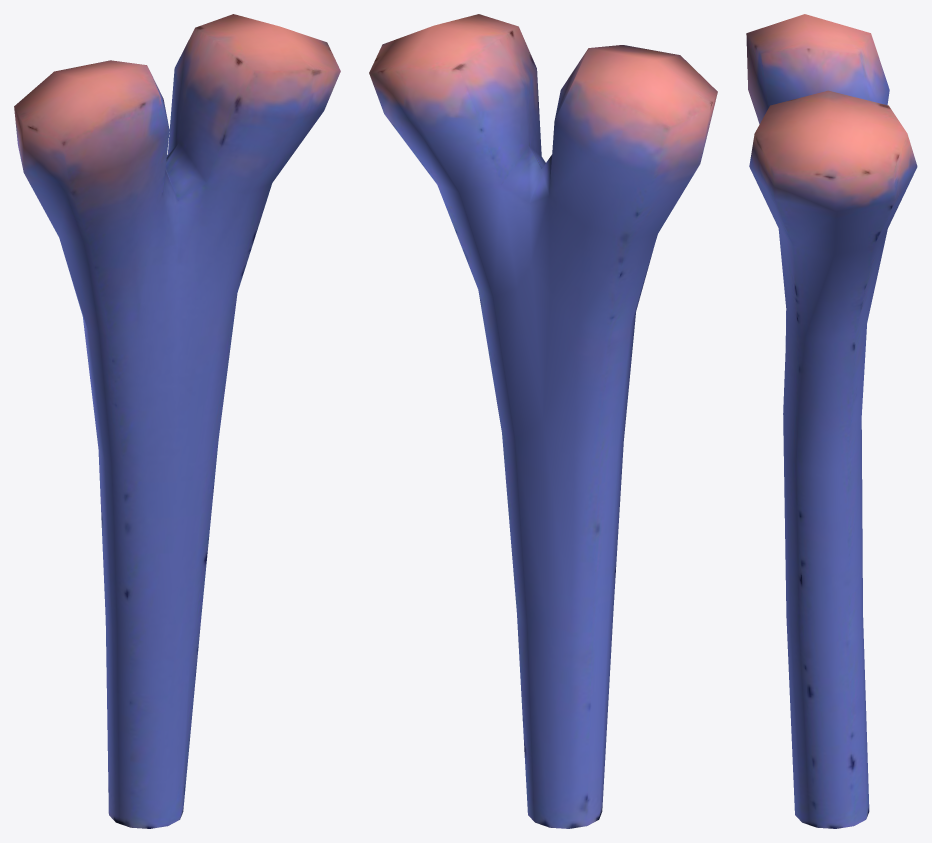
Rendered from 35-Bubble.fbx.
3 renders of one model, left to right at view 1: azimuth 30°, elevation 25°; view 2: azimuth 150°, elevation 25°; view 3: azimuth 270°, elevation 25°, orthographic.
Visible parts, largest first — view 1: 35-Bubble_LOD00; view 2: 35-Bubble_LOD00; view 3: 35-Bubble_LOD00.
Boxes of the visible parts, x1,y1,x2,y2 form: 35-Bubble_LOD00: (14, 14, 340, 828); 35-Bubble_LOD00: (369, 14, 717, 828); 35-Bubble_LOD00: (746, 14, 917, 828).
Bounding box in the file's own units: 15.63 × 36.04 × 7.34.
